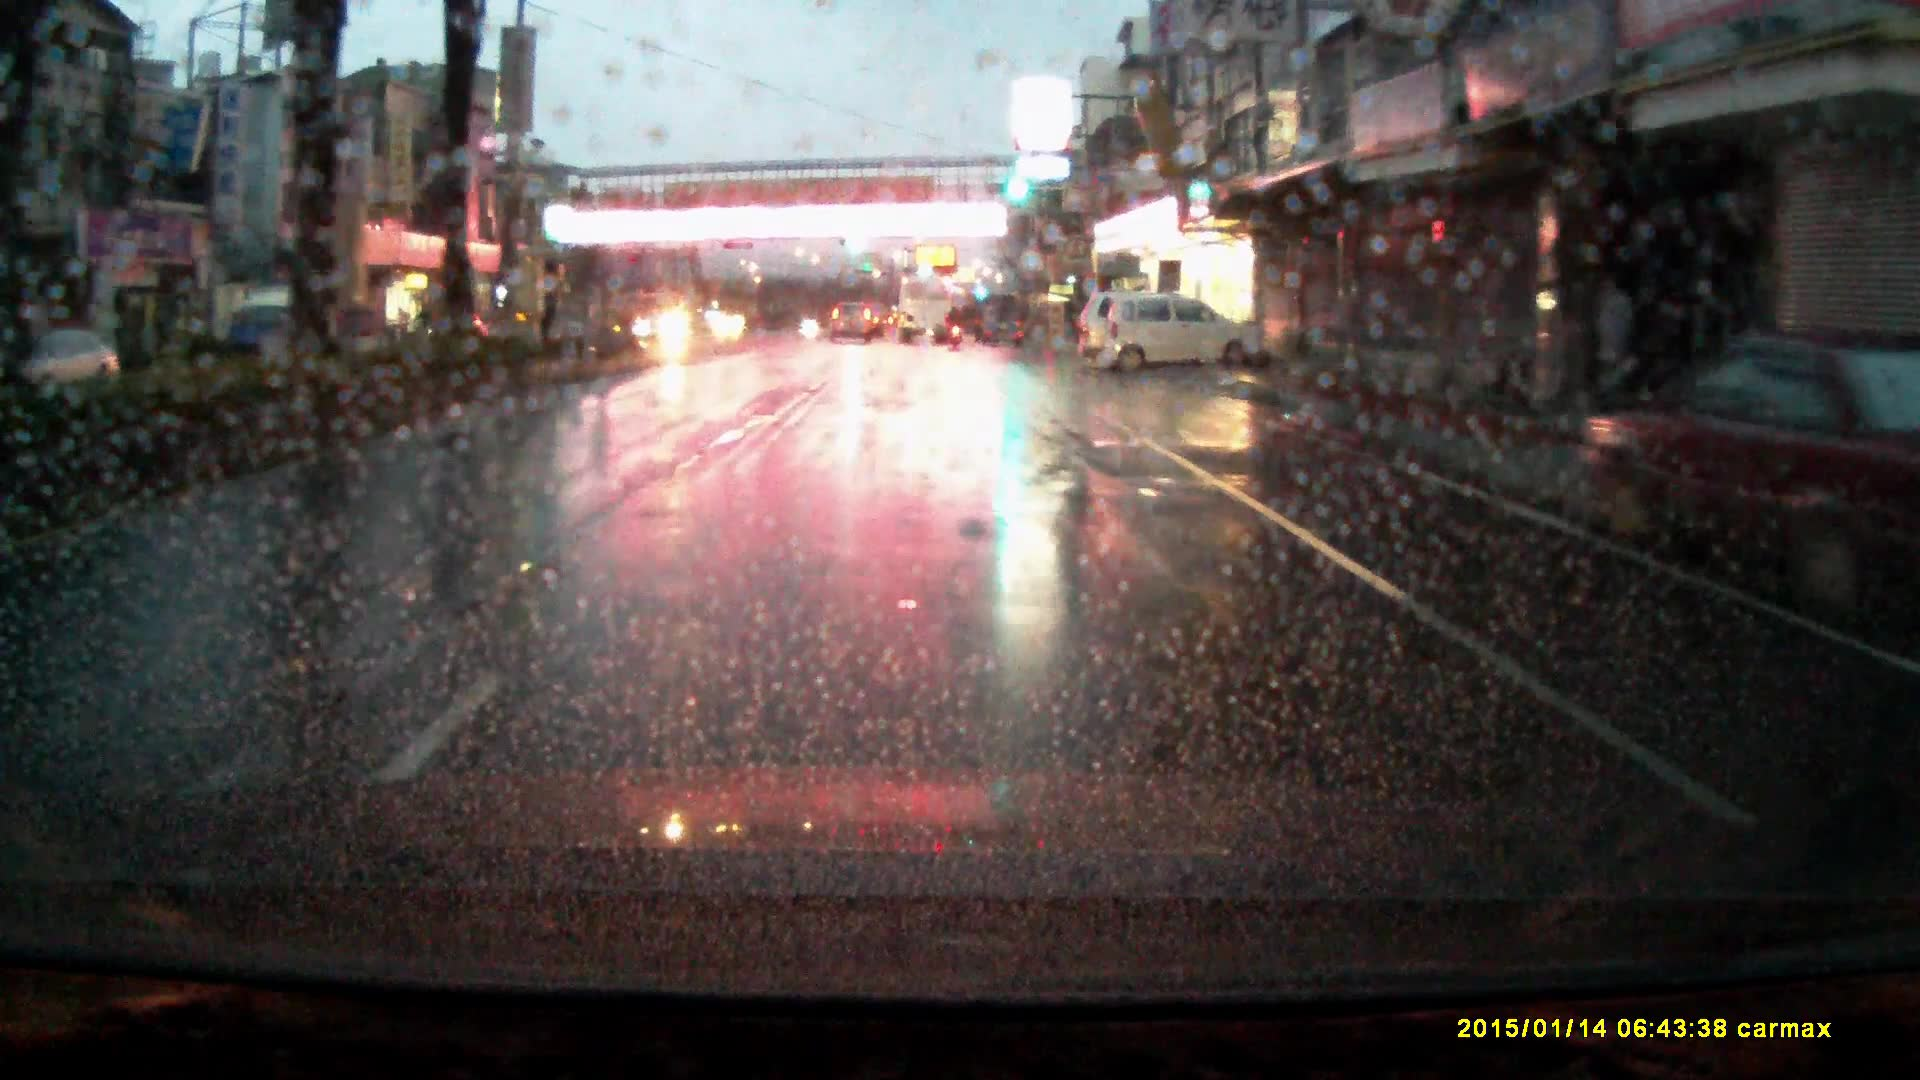rider: (945, 305, 965, 349)
vehicle: (1580, 335, 1920, 582), (1100, 290, 1268, 374), (1, 326, 126, 404), (221, 287, 323, 360), (1077, 290, 1165, 362), (633, 291, 702, 343), (899, 275, 951, 344), (830, 299, 876, 344)
